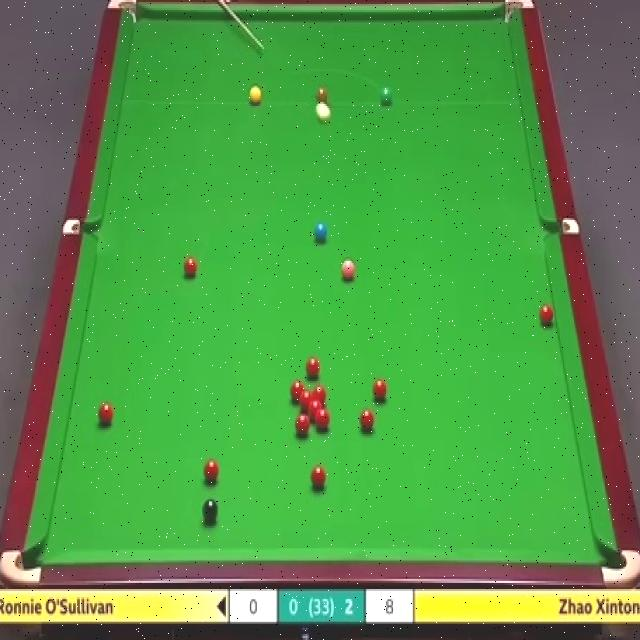black-ball: (202, 499, 219, 527)
blue-ball: (314, 220, 328, 244)
brown-ball: (315, 84, 328, 106)
green-ball: (379, 88, 393, 107)
pink-ball: (342, 258, 356, 280)
red-ball: (358, 407, 376, 435), (371, 376, 388, 404), (538, 302, 555, 328), (98, 399, 114, 426), (311, 464, 326, 491), (305, 356, 320, 382), (204, 459, 220, 483), (295, 413, 309, 438), (290, 379, 304, 403), (184, 255, 198, 278), (316, 408, 330, 431), (299, 390, 313, 410), (314, 385, 326, 406), (309, 400, 322, 419)
white-ball: (314, 100, 331, 126)
yellow-ball: (248, 86, 262, 107)
